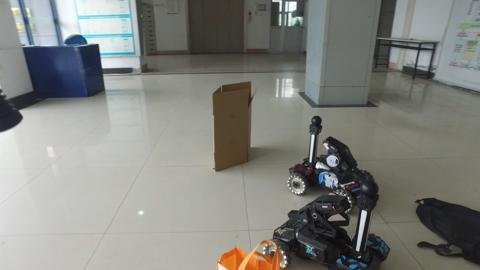box: (210, 80, 254, 170)
chariot: (275, 181, 392, 270), (286, 114, 381, 200)
